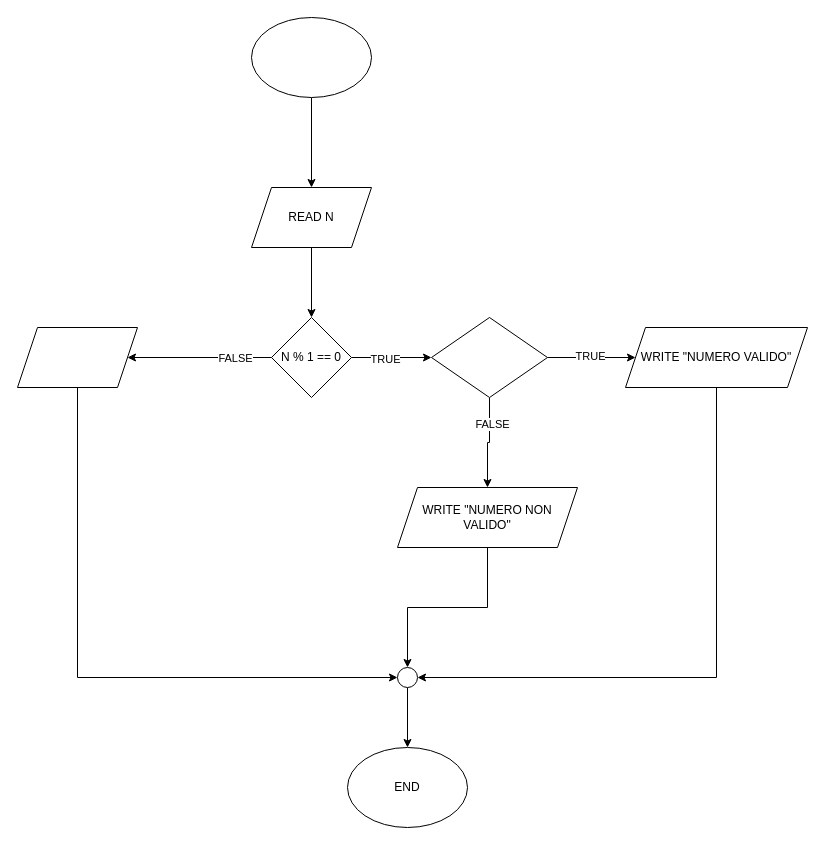
Image size: 825x845. Some labels were removed from this diagram. The centre of each missing label's shape, as x and y in pixels:
N % 2 == 0 AND N > 10: (x=489, y=357)
START: (x=311, y=57)
WRITE "ERROR": (x=77, y=357)
